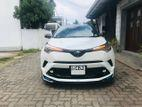car: (41, 24, 116, 85)
